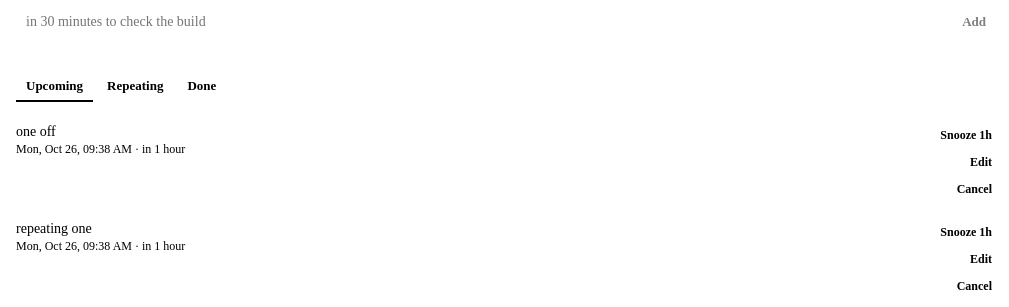
it: RemindersSidebar › tabs › Done shows only what has finished
Expected: the text "one off" is shown, [16,124,56,139]
Click the tab "Done". click: (202, 87)
box: [177,72,226,102]
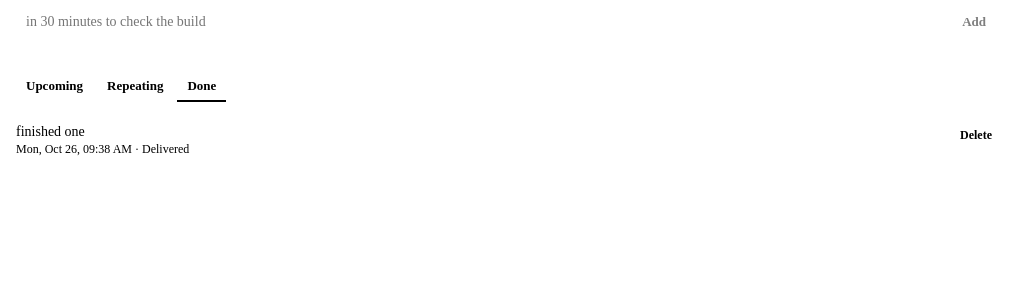
Now the text "finished one" is shown, box [16,124,85,139]
Now the text "one off" is gone
